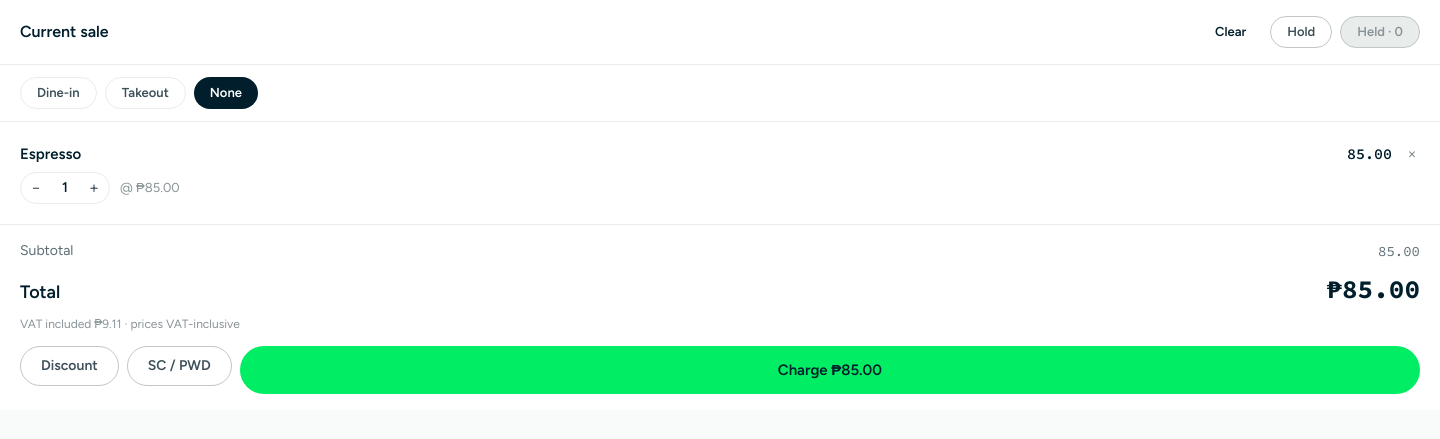
Test: dine-in adds the service charge row, other order types do not
Expected: the text "Service charge 5%" is not shown
Click the button "Dine-in".
click(58, 93)  # box [20,77,97,109]
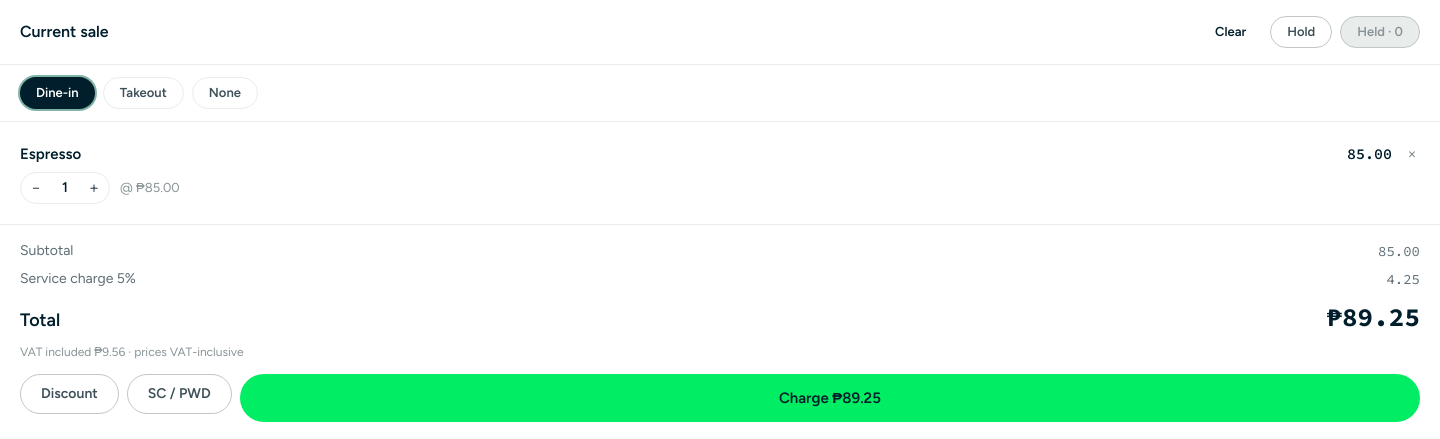
Expected: the text "Service charge 5%" is shown, [20,270,136,287]
Expected: the button "Charge ₱89.25" is shown, [240,374,1420,422]
Click the button "Takeout".
click(143, 93)  # box [103,77,184,109]
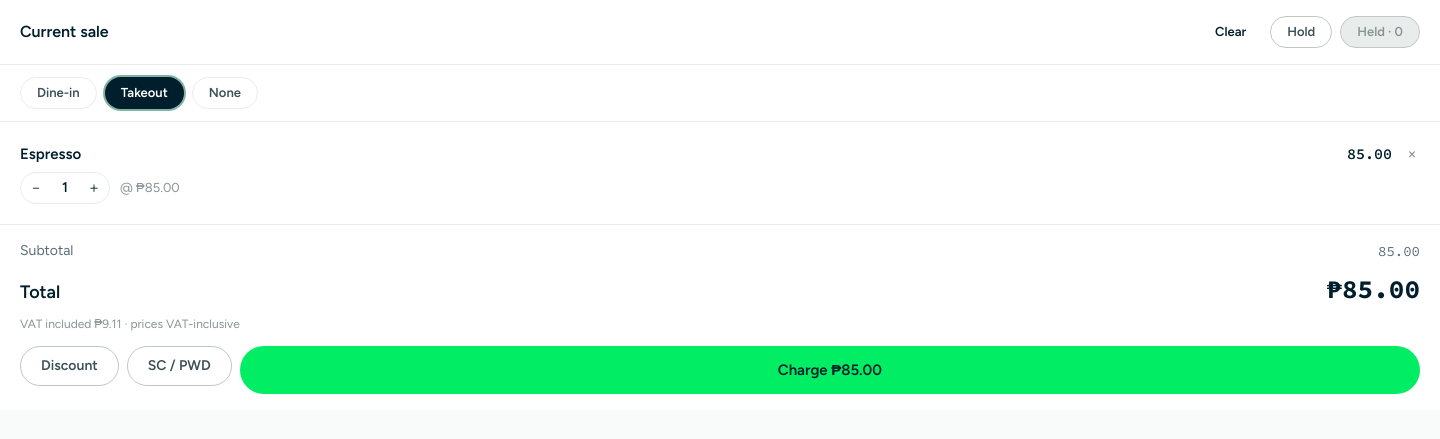
Expected: the text "Service charge 5%" is gone
